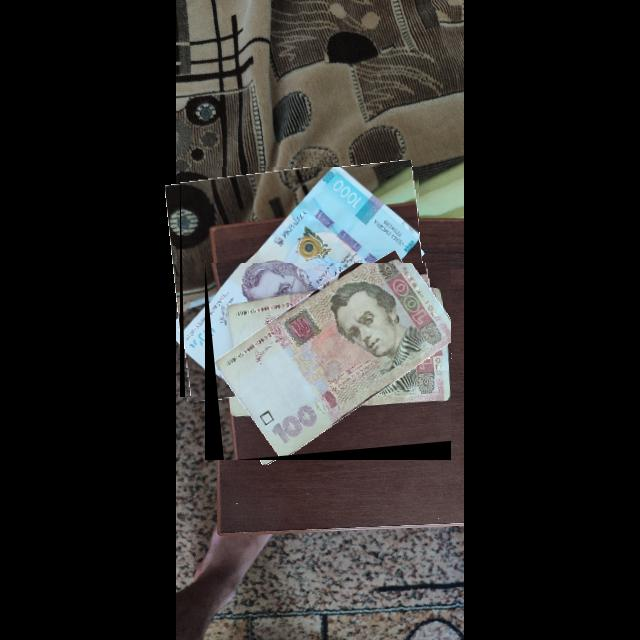1000uah: (184, 167, 420, 398)
100uah: (213, 263, 452, 458)
